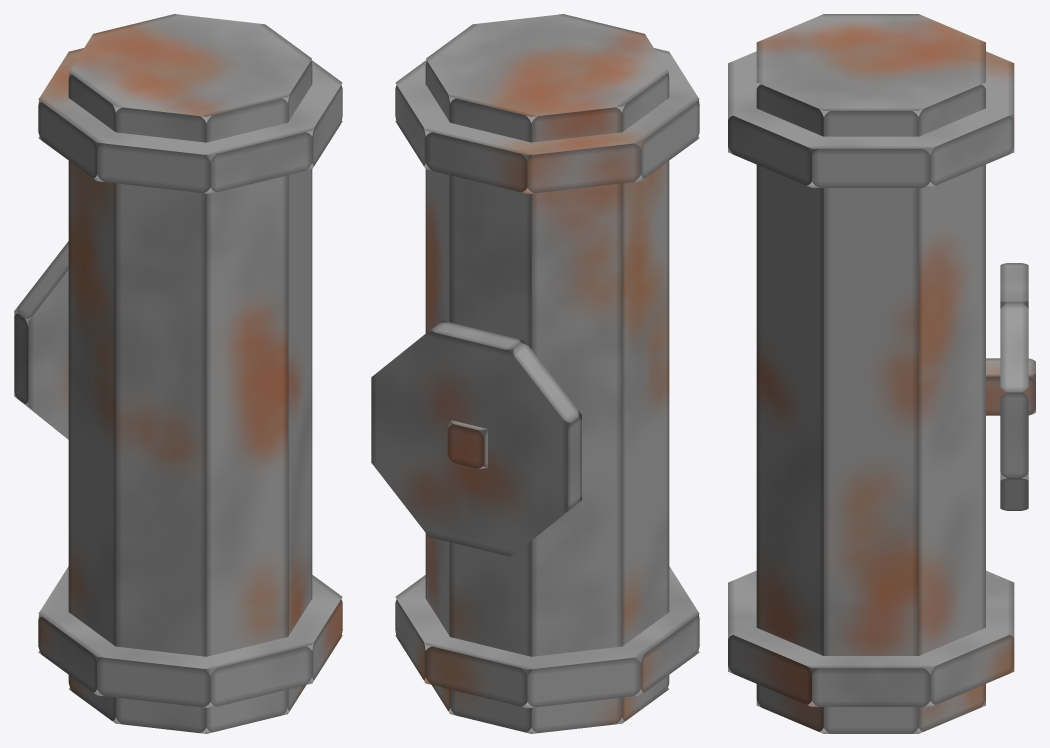
The model's file is pipeValve.obj.
3 views of the same model, side by side, from view 1: azimuth 30°, elevation 25°; view 2: azimuth 150°, elevation 25°; view 3: azimuth 270°, elevation 25° (orthographic).
Visible parts, largest first — view 1: cylinder; view 2: cylinder, cuboid; view 3: cylinder, cuboid.
Boxes of the visible parts, x1,y1,x2,y2 form: cylinder: (14,14,342,733); cylinder: (371,14,699,733); cuboid: (447,420,487,468); cylinder: (728,14,1028,733); cuboid: (986,358,1035,415).
Size of the model in its own units: 1.25 by 3 by 1.34.
1 material, 1 textured.
